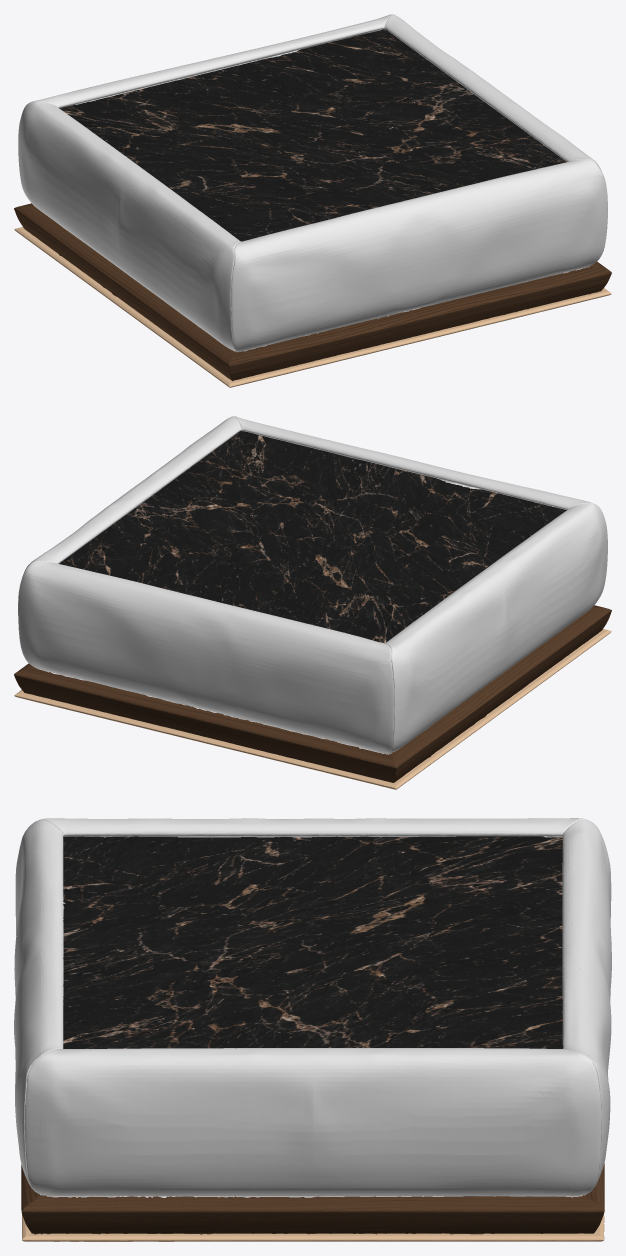
File: St_Hilker_Dusseldorf_ct.glb
3 renders of one model, top to bottom at view 1: azimuth 30°, elevation 25°; view 2: azimuth 150°, elevation 25°; view 3: azimuth 270°, elevation 25°, orthographic. The views are drawn at different scales.
Visible parts, largest first — view 1: Dusseldorf ct; view 2: Dusseldorf ct; view 3: Dusseldorf ct.
Part boxes in pixels (left/top/right/bottom): Dusseldorf ct: left=14, top=14, right=611, bottom=387; Dusseldorf ct: left=14, top=416, right=611, bottom=789; Dusseldorf ct: left=14, top=818, right=611, bottom=1241.
Bounding box in the file's own units: 0.9803 × 0.3388 × 0.9618.
Materials: 5 (2 with a texture image).
